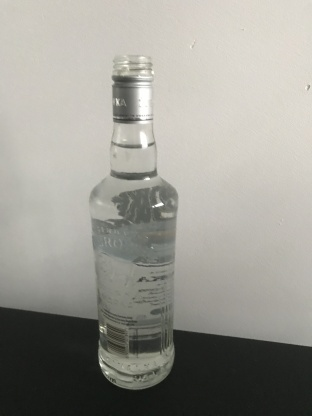nakretka: (109, 53, 156, 124)
